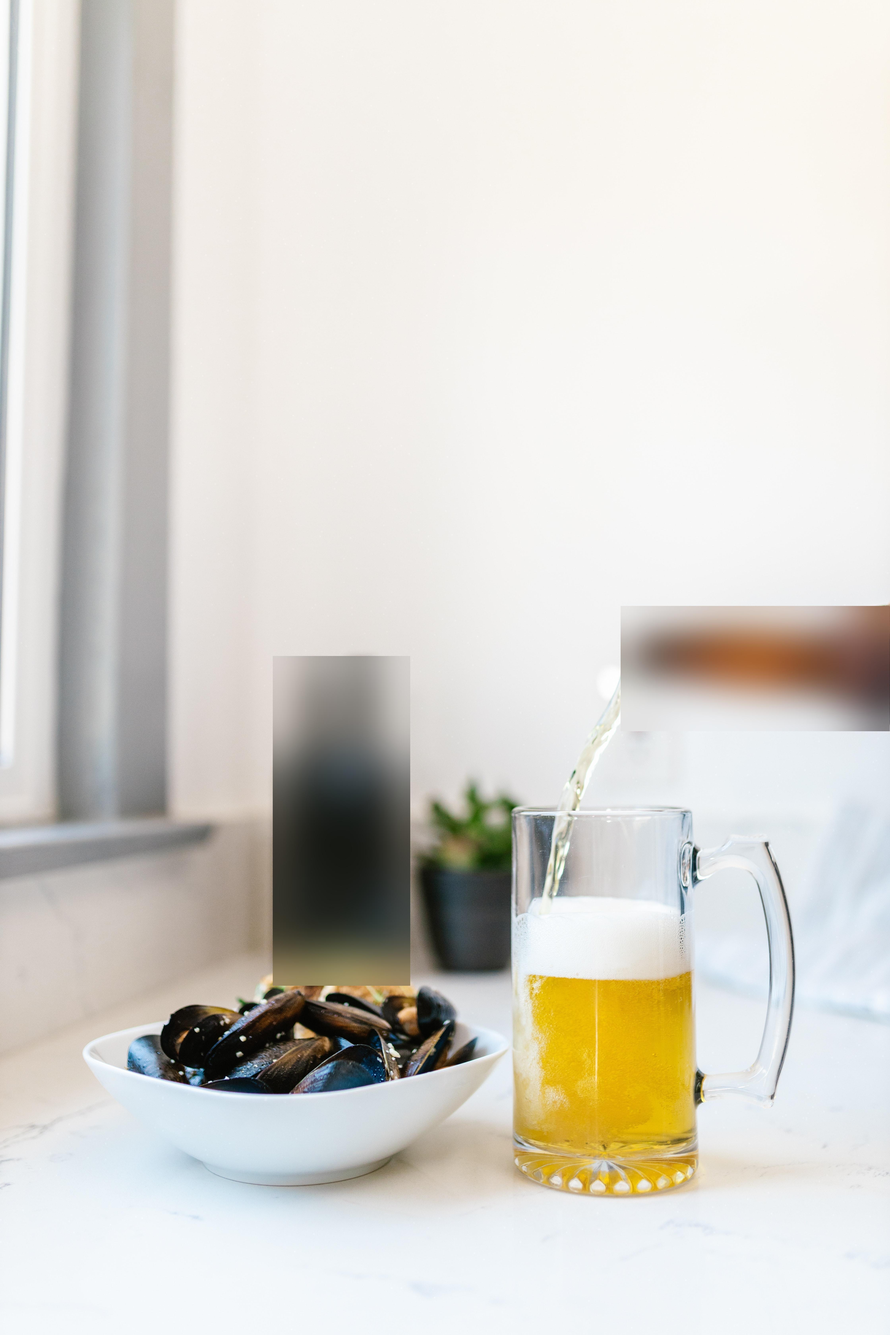glass-mug: (508, 793, 802, 1202)
